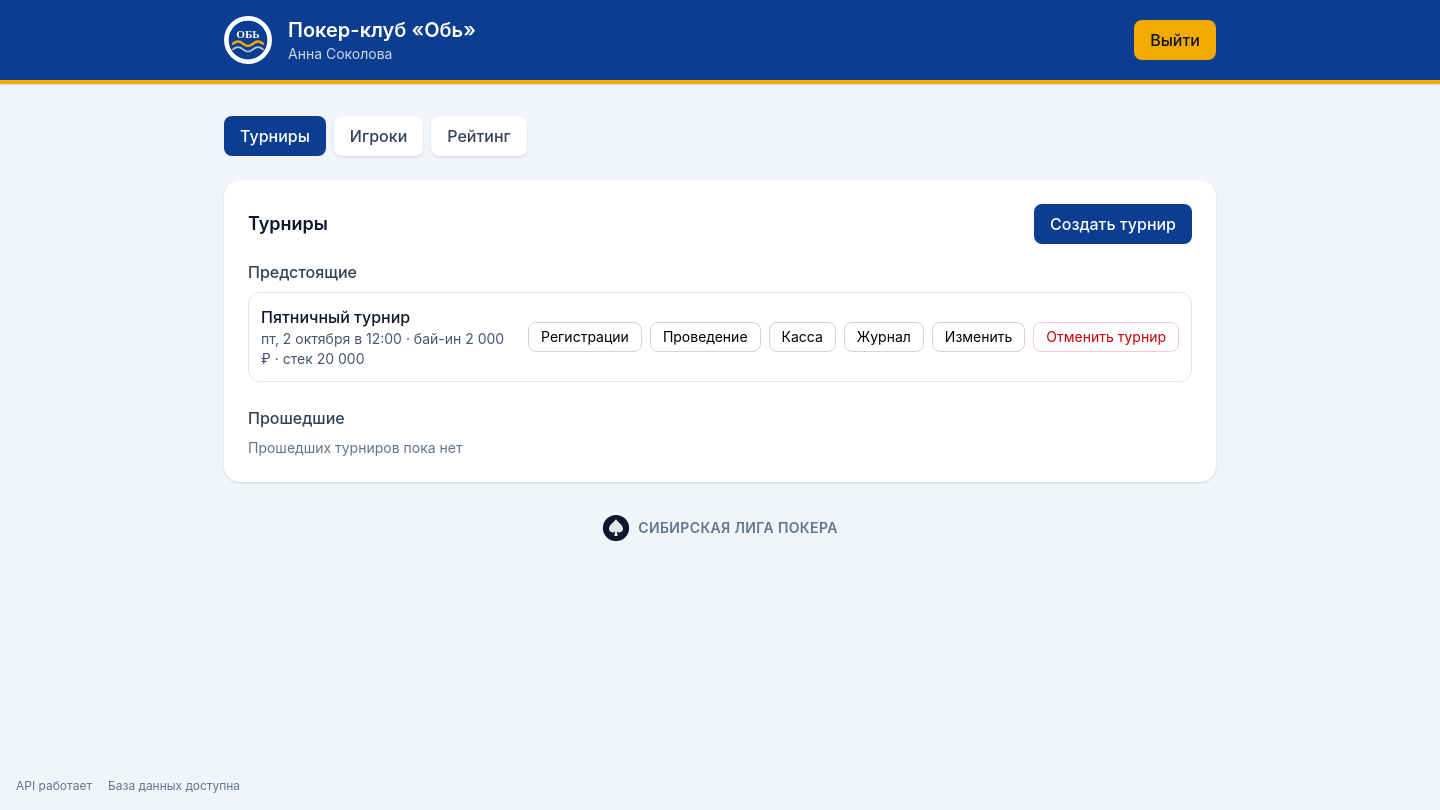
Test: club tournaments › cancels an upcoming tournament after the admin confirms
What coordinates should you click on to do the following:
click the button "Отменить турнир"
I would click on:
 (1106, 337)
Its box is [1033, 322, 1179, 352].
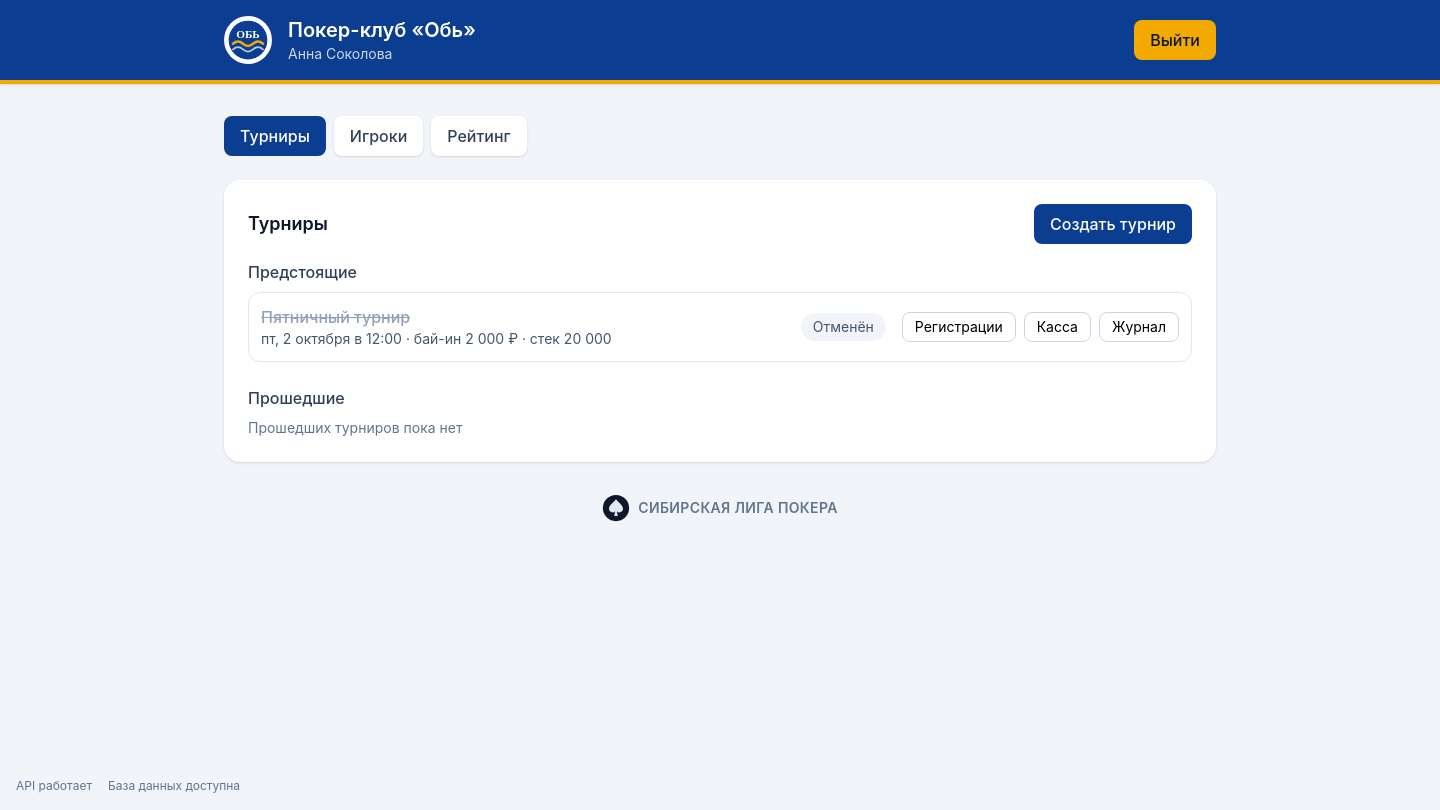
Now the text "Отменён" is shown, box [801, 313, 886, 341]
